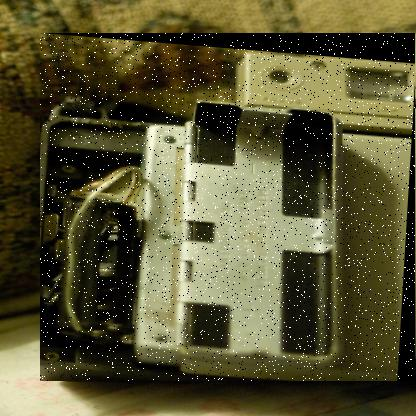Camera: (41, 34, 416, 383)
